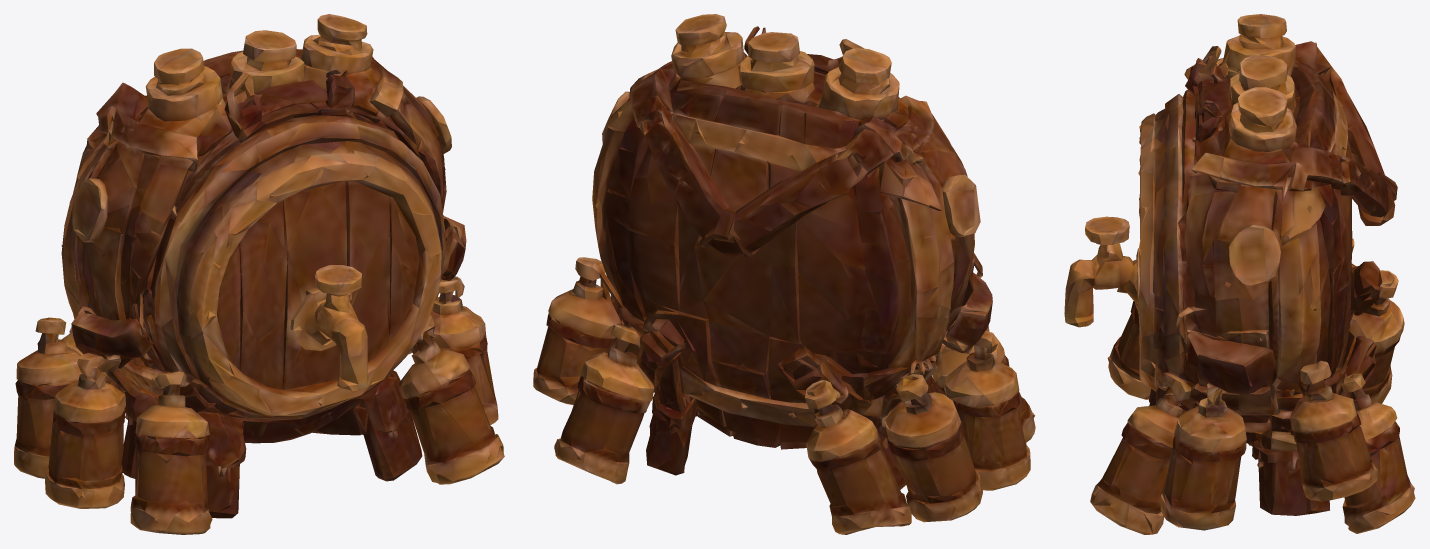
The model's file is brewmaster-keg-pack-oct25.glb.
3 views of the same model, side by side, from view 1: azimuth 30°, elevation 25°; view 2: azimuth 150°, elevation 25°; view 3: azimuth 270°, elevation 25° (orthographic). The views are drawn at different scales.
Bounding box in the file's own units: 1.9 × 1.85 × 1.41.
Materials: 1 (1 with a texture image).
